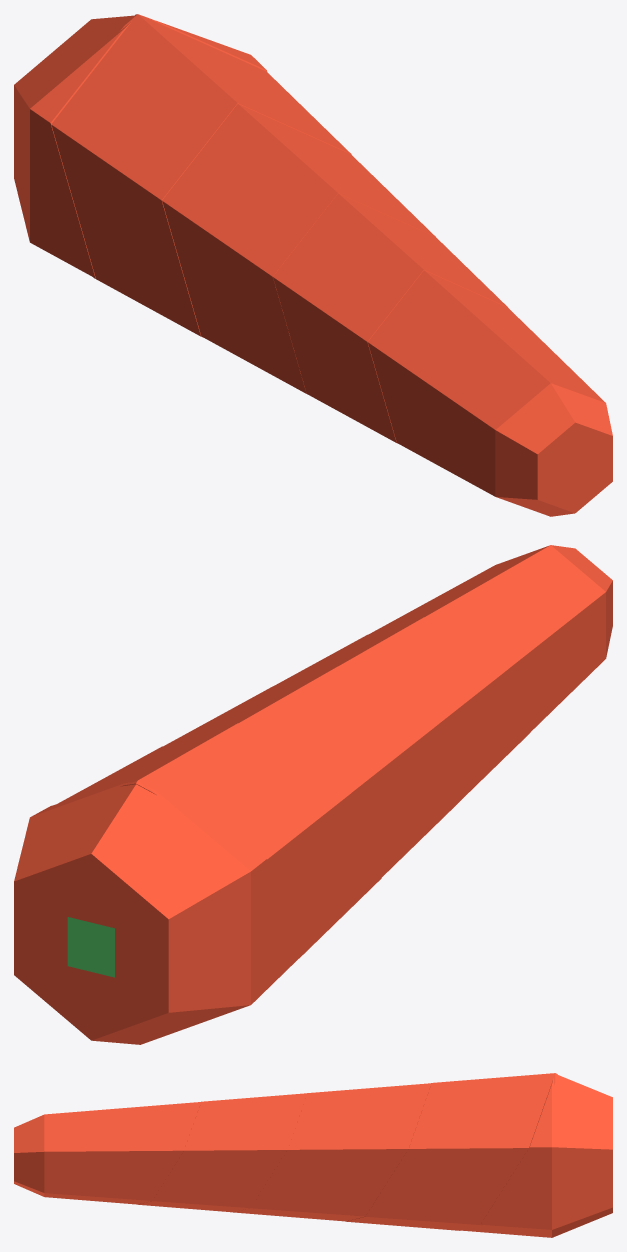
Rendered from Carrot.fbx.
3 renders of one model, top to bottom at view 1: azimuth 30°, elevation 25°; view 2: azimuth 150°, elevation 25°; view 3: azimuth 270°, elevation 25°, orthographic. The views are drawn at different scales.
Parts seen in each view (by area): view 1: carrotSlice3, carrotSlice2, carrotSlice4, carrotSlice5, carrotSlice1; view 2: carrotSlice1, carrotSlice2, carrotSlice4, carrotSlice3, carrotSlice5; view 3: carrotSlice2, carrotSlice4, carrotSlice3, carrotSlice1, carrotSlice5.
Boxes of the visible parts, left/top/right/bottom form: carrotSlice3: left=367, top=270, right=612, bottom=516; carrotSlice2: left=51, top=14, right=351, bottom=337; carrotSlice4: left=162, top=104, right=435, bottom=393; carrotSlice5: left=273, top=193, right=507, bottom=443; carrotSlice1: left=14, top=15, right=267, bottom=278; carrotSlice1: left=14, top=782, right=301, bottom=1044; carrotSlice2: left=57, top=723, right=381, bottom=958; carrotSlice4: left=164, top=666, right=461, bottom=877; carrotSlice3: left=370, top=545, right=612, bottom=731; carrotSlice5: left=274, top=617, right=530, bottom=798; carrotSlice2: left=345, top=1073, right=557, bottom=1230; carrotSlice4: left=233, top=1083, right=431, bottom=1221; carrotSlice3: left=14, top=1102, right=200, bottom=1204; carrotSlice1: left=462, top=1075, right=612, bottom=1237; carrotSlice5: left=138, top=1093, right=307, bottom=1212.
Size of the model in its own units: 29.98 by 34.5 by 114.
